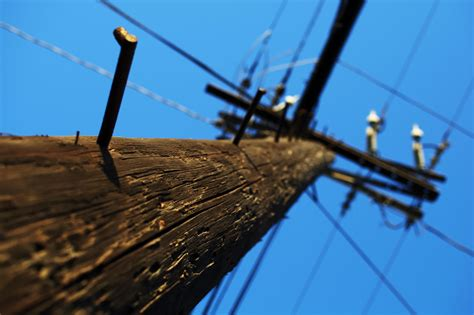pole: (3, 23, 463, 315)
